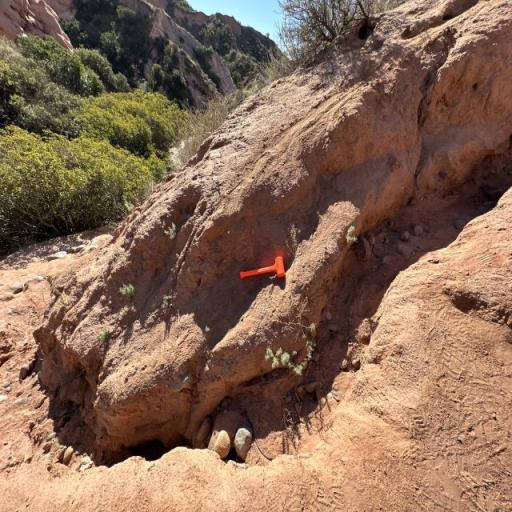mallet: (240, 256, 285, 278)
